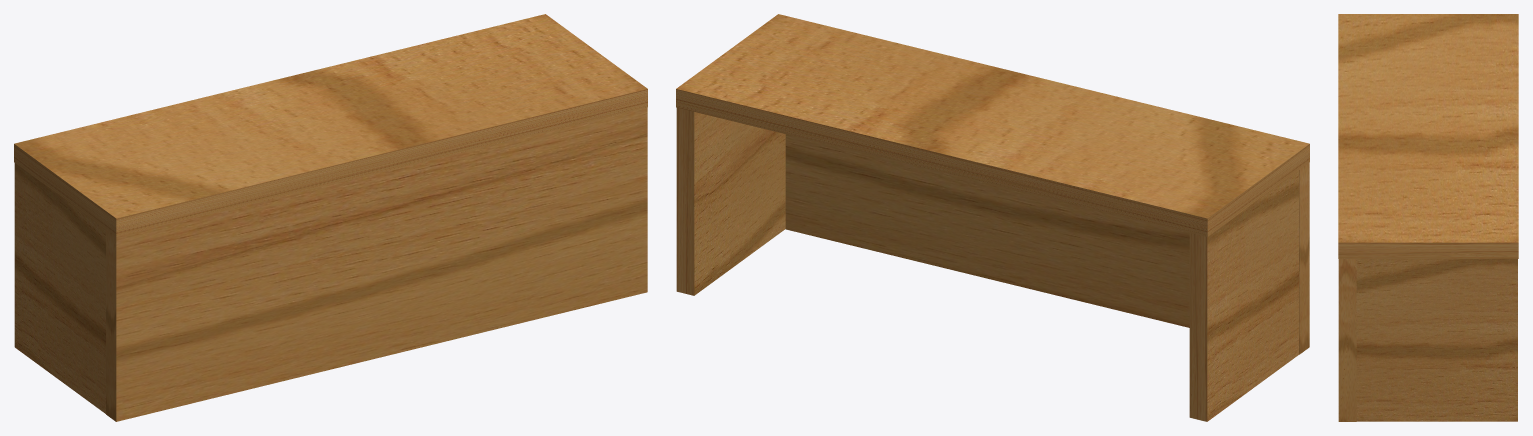
The model's file is theke.glb.
3 views of the same model, side by side, from view 1: azimuth 30°, elevation 25°; view 2: azimuth 150°, elevation 25°; view 3: azimuth 270°, elevation 25° (orthographic). The views are drawn at different scales.
Visible parts, largest first — view 1: Cube.001, Cube, Cube.003; view 2: Cube, Cube.001, Cube.003, Cube.002; view 3: Cube, Cube.002, Cube.001.
Boxes of the visible parts, x1,y1,x2,y2 form: Cube.001: (106,107,647,421); Cube: (14,14,647,236); Cube.003: (14,163,105,413); Cube: (676,14,1309,236); Cube.001: (785,134,1309,354); Cube.003: (1189,170,1298,421); Cube.002: (676,107,785,295); Cube: (1338,14,1518,258); Cube.002: (1356,259,1517,421); Cube.001: (1338,259,1356,421).
Size of the model in its own units: 6 by 2.2 by 2.
1 material, 1 textured.
